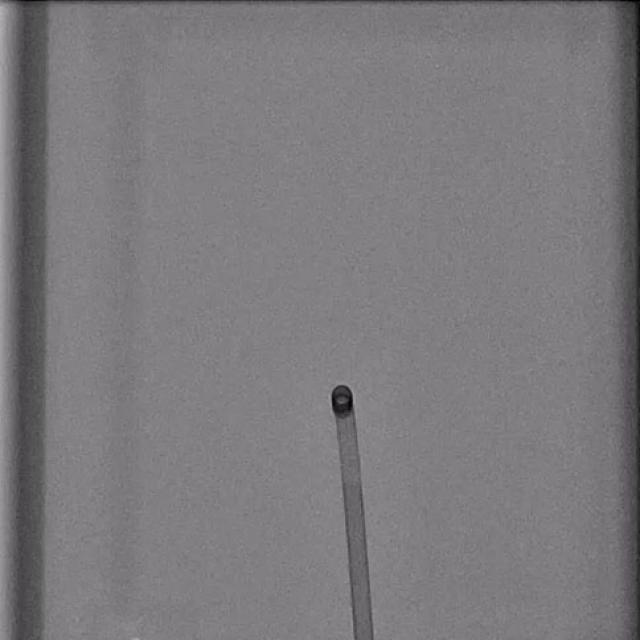bend: (340, 468, 363, 488)
entry: (355, 633, 375, 640)
marker: (330, 394, 358, 417)
tip: (330, 384, 354, 407)
